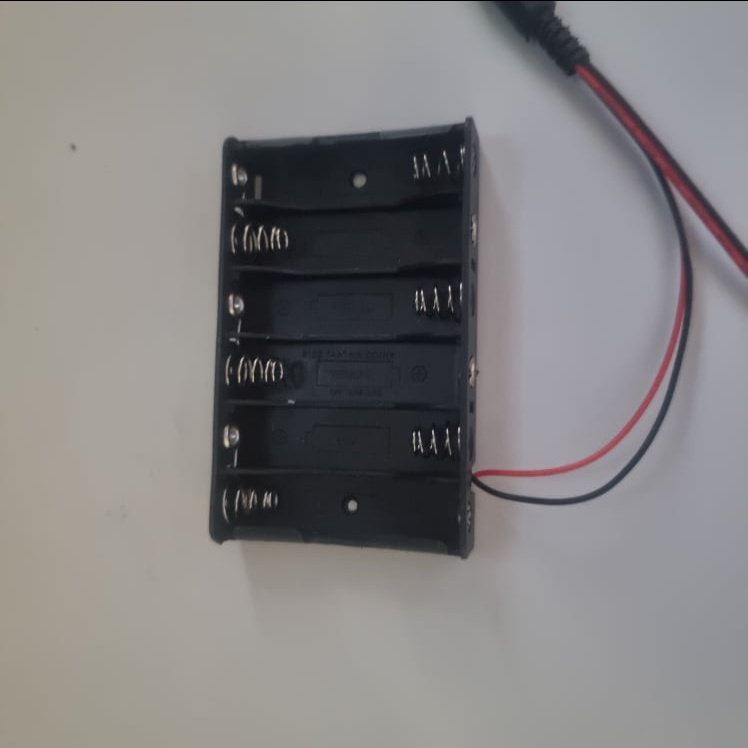BATTERY BOX: (207, 115, 484, 561)
